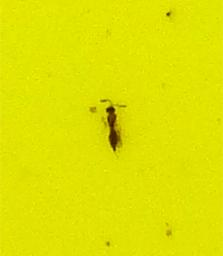Hymenoptera: (100, 100, 123, 156)
